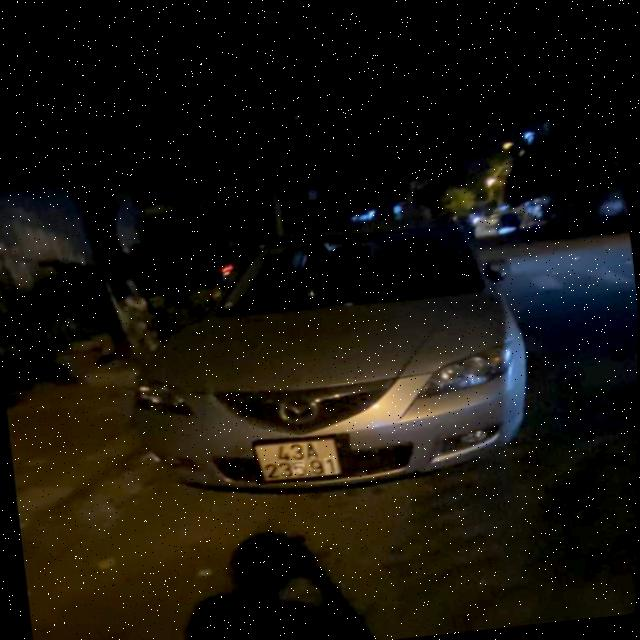car: (111, 181, 555, 530)
plate: (245, 427, 350, 492)
